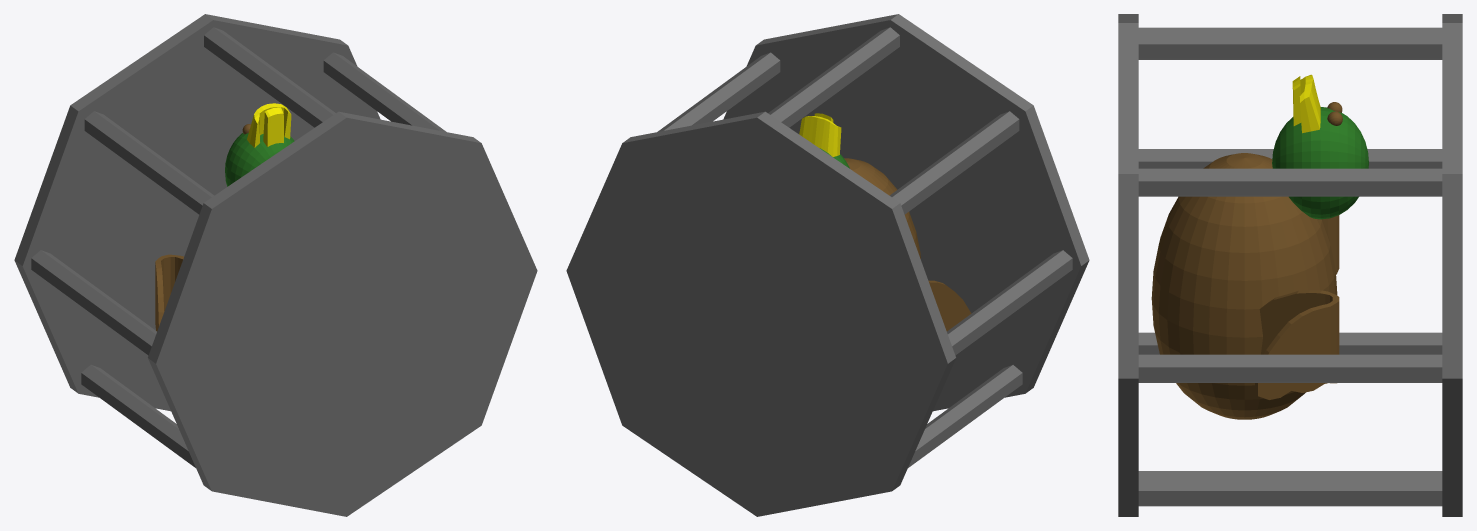
Rendered from captured_duck.fbx.
The picture shows the model from 3 angles, left to right: view 1: azimuth 30°, elevation 25°; view 2: azimuth 150°, elevation 25°; view 3: azimuth 270°, elevation 25°; orthographic projection. The views are drawn at different scales.
Visible parts, largest first — view 1: Sphere; view 2: Sphere; view 3: Sphere.
Boxes of the visible parts, left/top/right/bottom form: Sphere: left=14, top=14, right=537, bottom=516; Sphere: left=566, top=14, right=1089, bottom=516; Sphere: left=1118, top=14, right=1462, bottom=516.
Size of the model in its own units: 345 by 345 by 222.
